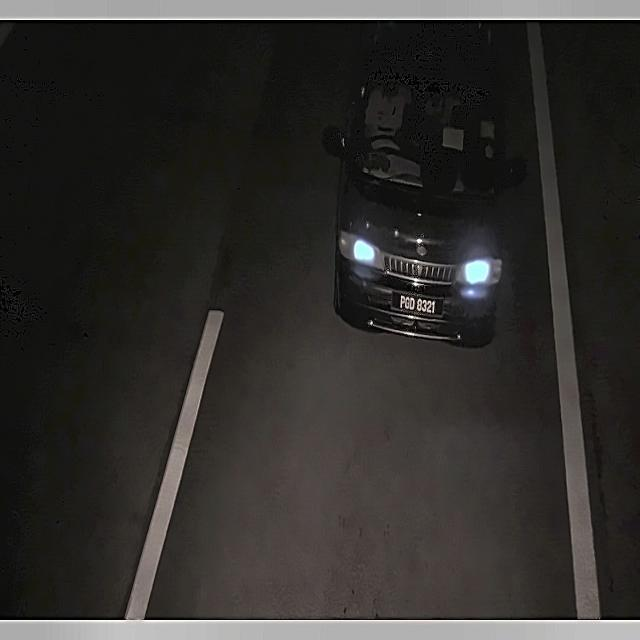car: (390, 282, 447, 326)
